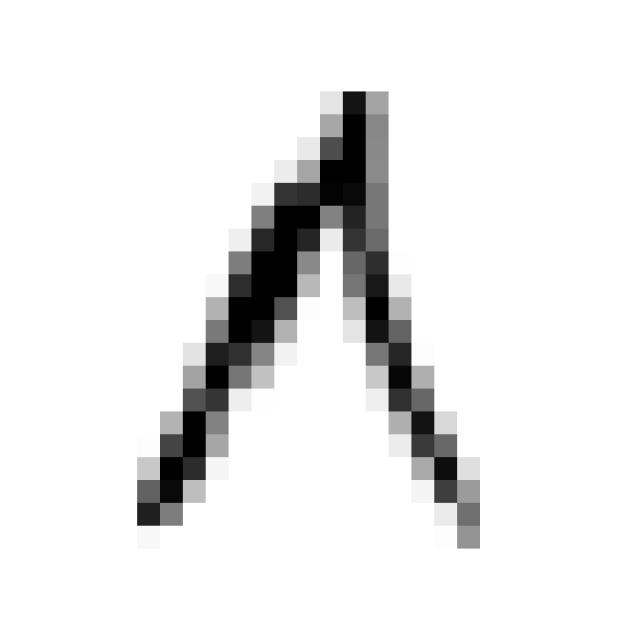8 -eight-: (114, 62, 503, 569)
